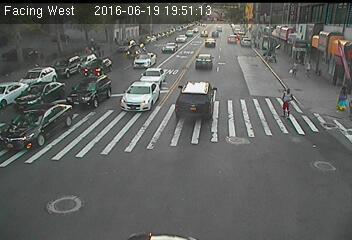neg: (266, 42, 278, 58), (83, 34, 92, 46)
pos: (275, 87, 299, 118), (333, 84, 351, 113), (302, 58, 316, 77), (288, 61, 302, 79)
